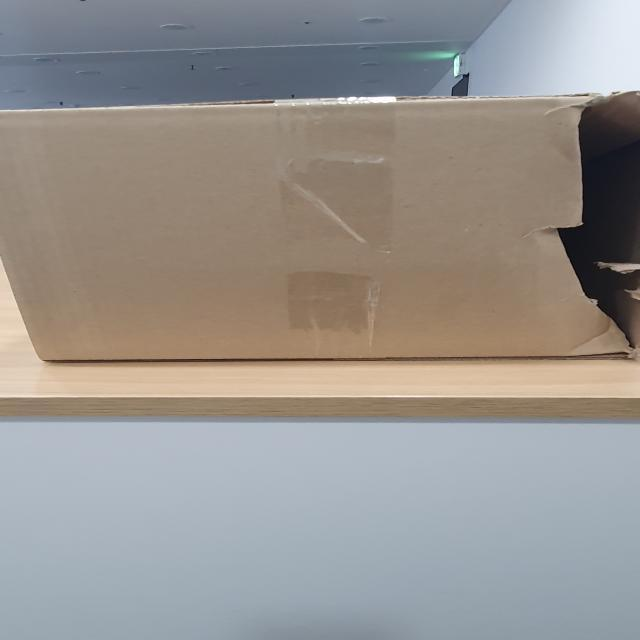hole: (551, 94, 640, 352)
